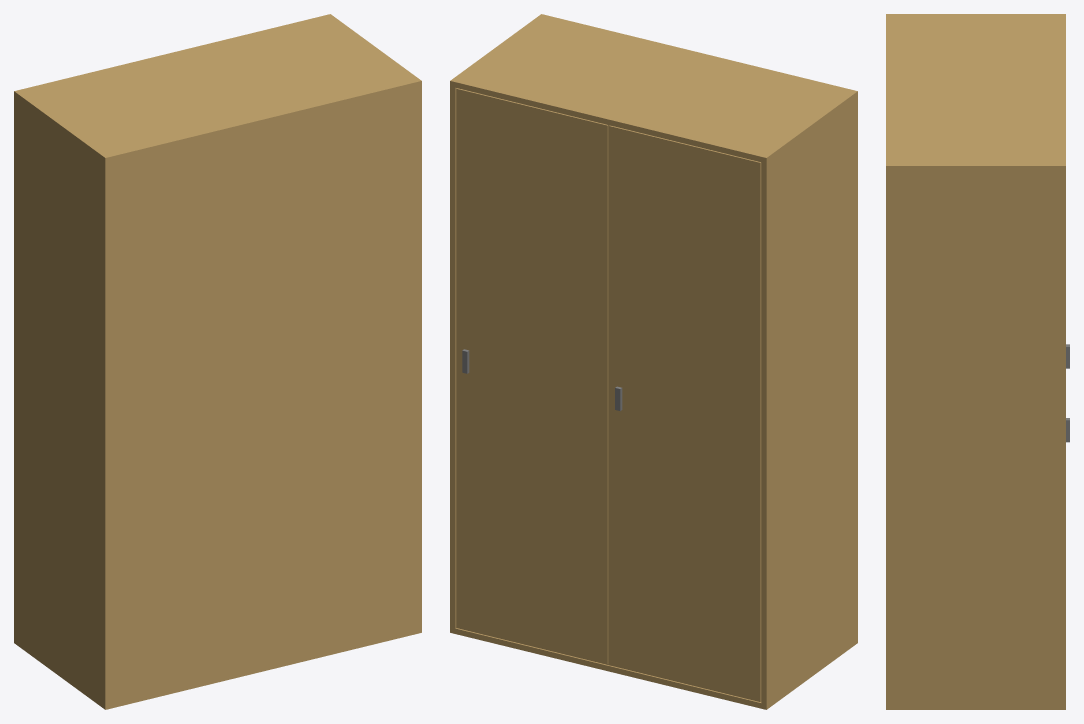
3 renders of one model, left to right at view 1: azimuth 30°, elevation 25°; view 2: azimuth 150°, elevation 25°; view 3: azimuth 270°, elevation 25°, orthographic.
Size of the model in its own units: 1.2 by 2 by 0.6125.
